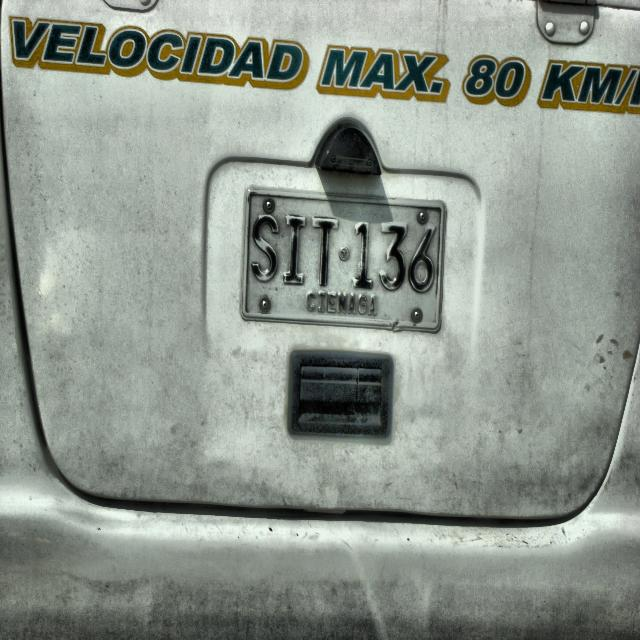plate: (239, 186, 448, 334)
